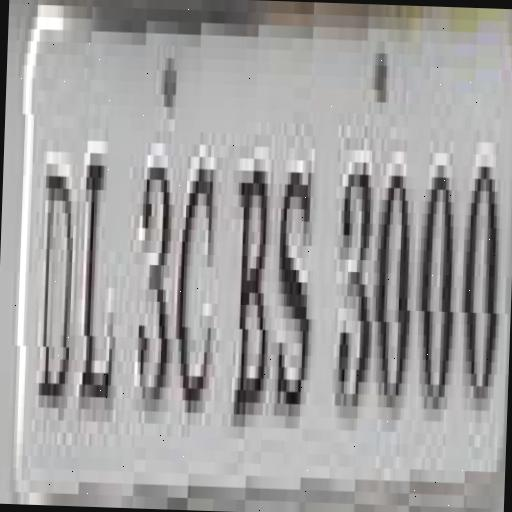number plate: (2, 3, 512, 512)
